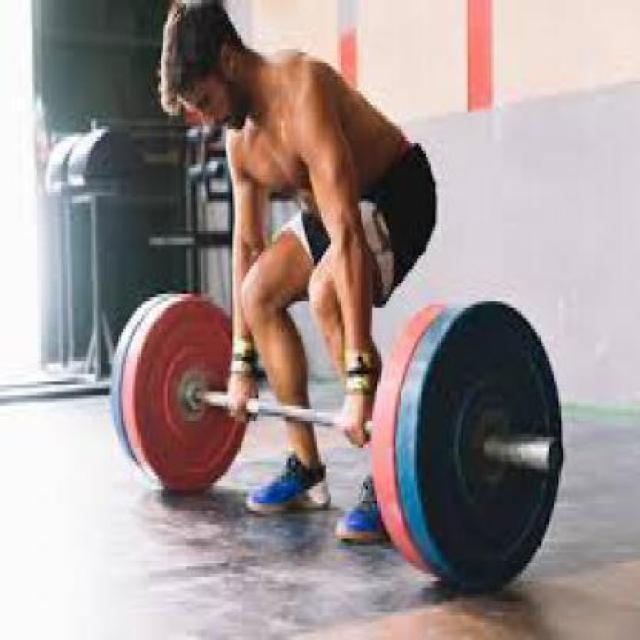barbell: (398, 294, 573, 598)
